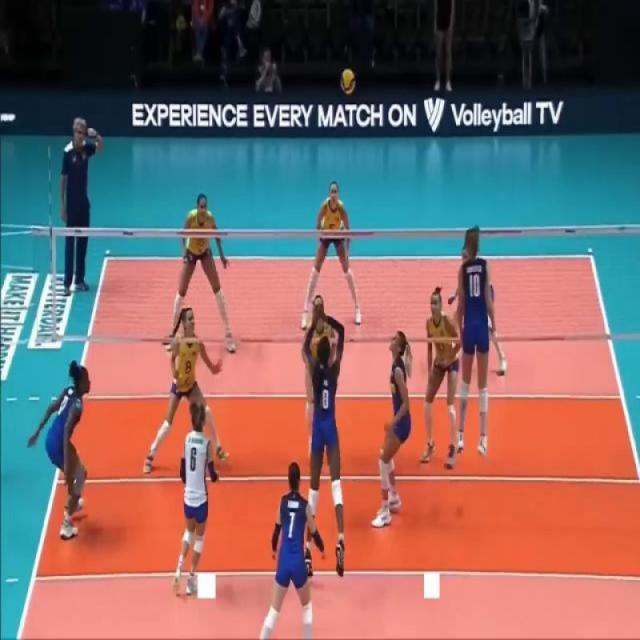volleyball: (339, 68, 356, 96)
